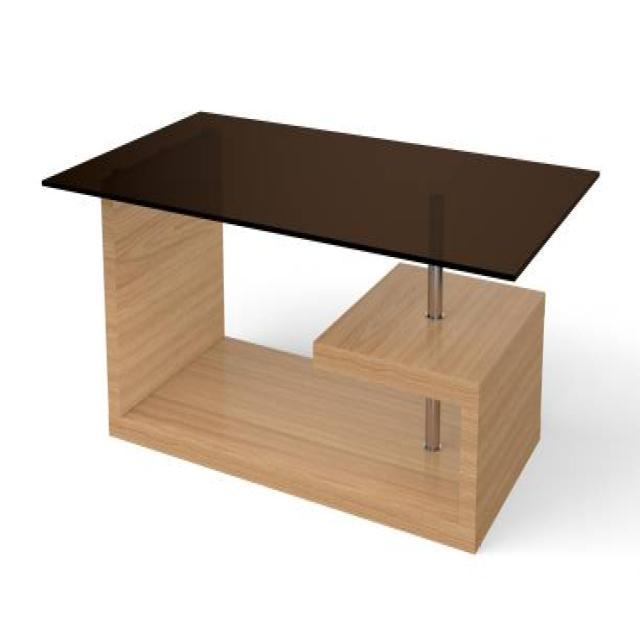table: (40, 107, 600, 554)
